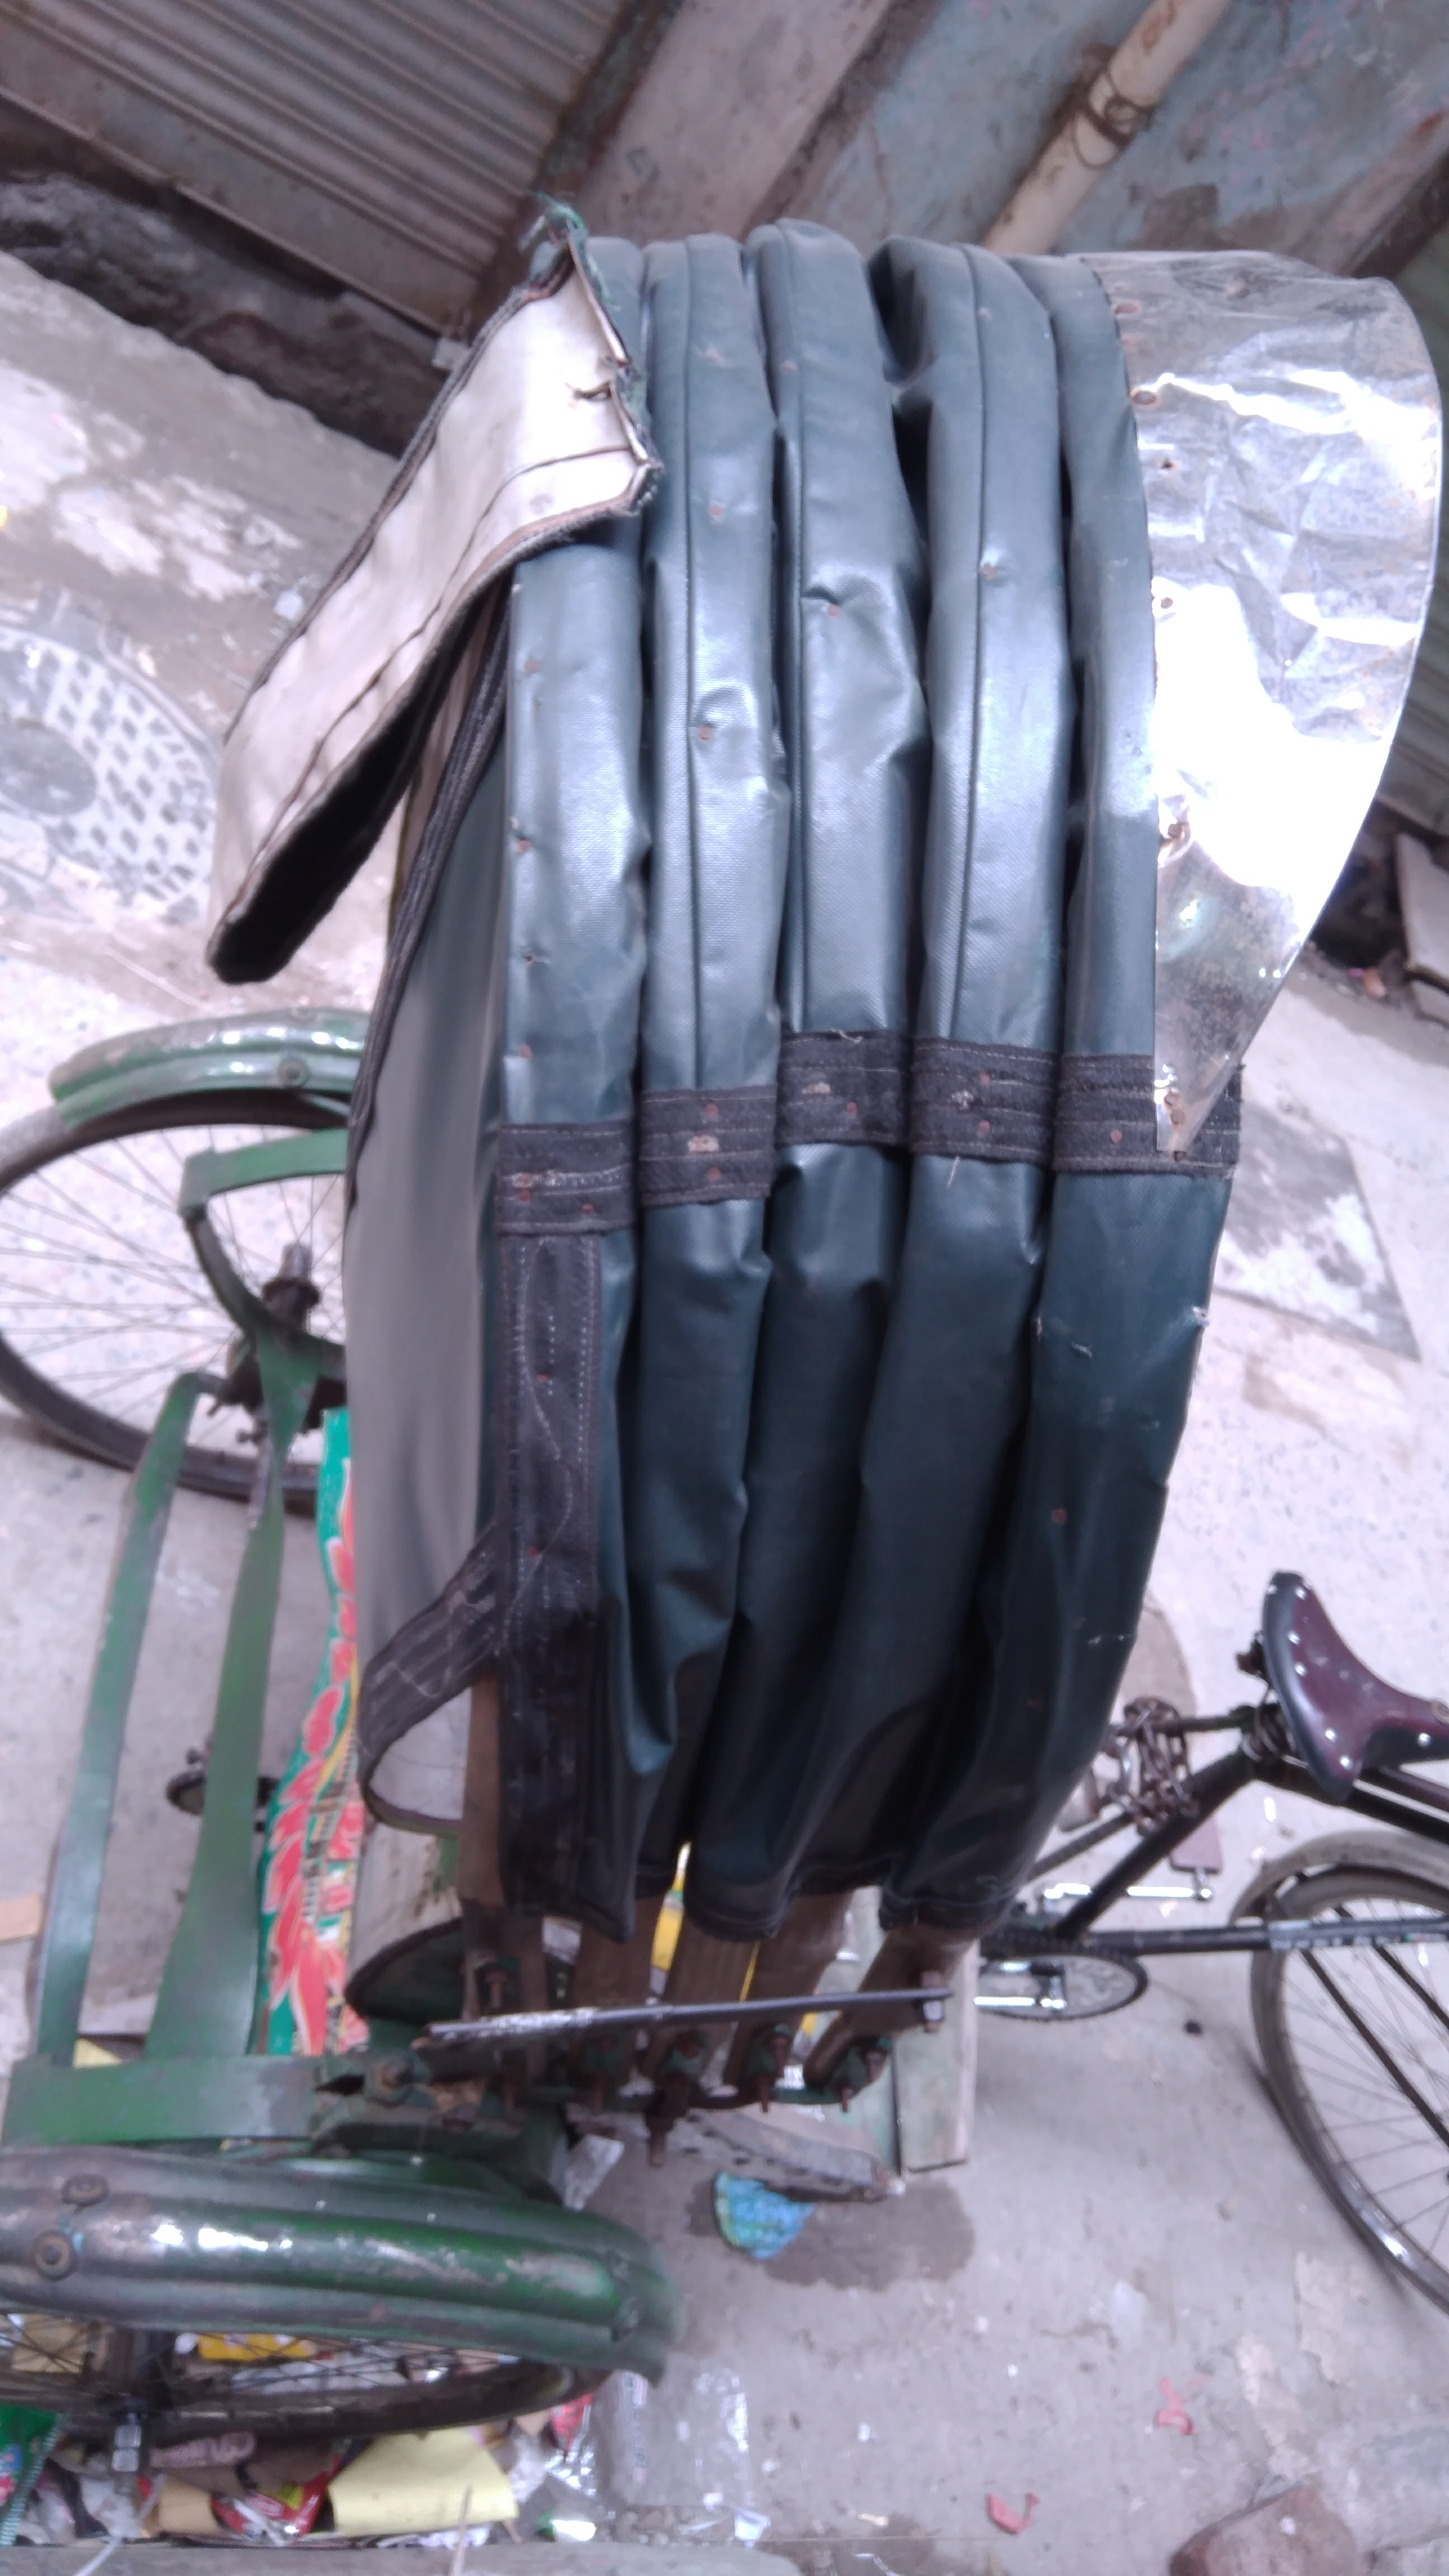Rickshaw: (62, 182, 1382, 2535)
